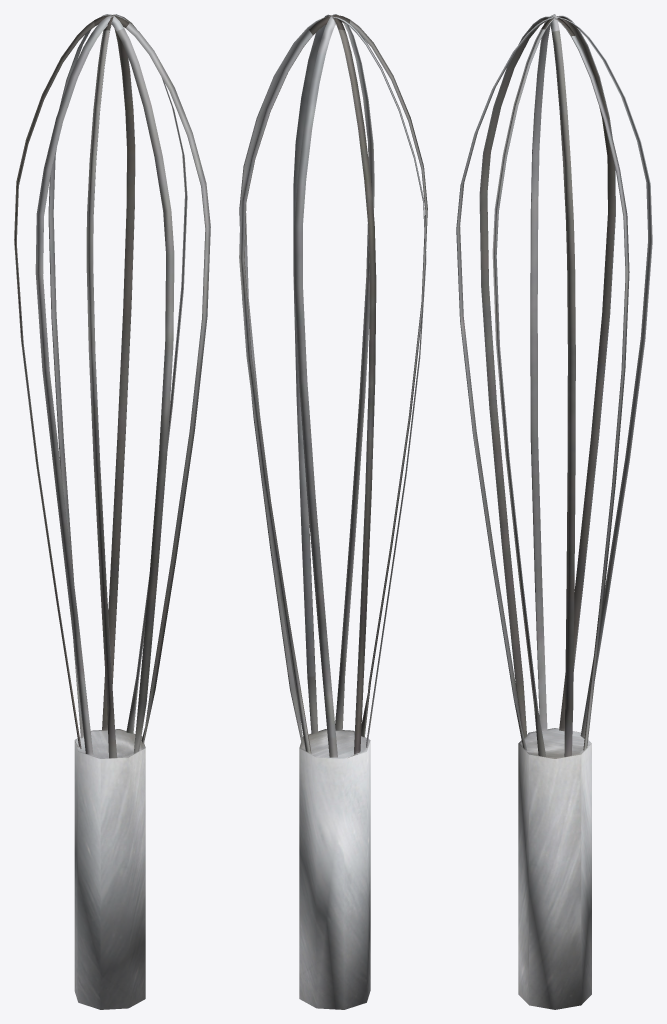
The model's file is Whisk.obj.
The picture shows the model from 3 angles, left to right: view 1: azimuth 30°, elevation 25°; view 2: azimuth 150°, elevation 25°; view 3: azimuth 270°, elevation 25°; orthographic projection.
Visible parts, largest first — view 1: Whisk.obj; view 2: Whisk.obj; view 3: Whisk.obj.
Part boxes in pixels (x1,y1,x2,y2): Whisk.obj: (14, 14, 210, 1009); Whisk.obj: (239, 14, 427, 1009); Whisk.obj: (456, 14, 652, 1009).
Bounding box in the file's own units: 5.95 × 33 × 6.01.
